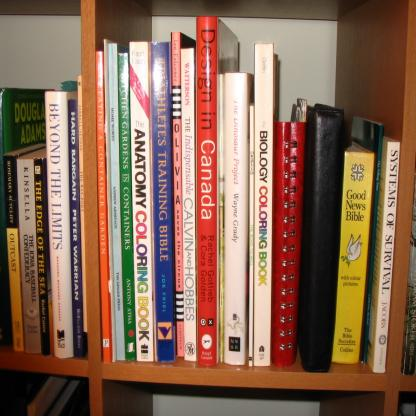book: (194, 12, 245, 368), (332, 140, 375, 362), (146, 33, 174, 360), (254, 38, 282, 362), (273, 112, 308, 366), (221, 67, 250, 364), (127, 36, 153, 362), (170, 30, 196, 354), (303, 103, 333, 376), (46, 86, 71, 359), (94, 50, 115, 364), (376, 133, 398, 377), (16, 155, 42, 360), (116, 50, 132, 362), (177, 47, 192, 374), (3, 148, 24, 336), (34, 153, 51, 357), (70, 94, 83, 358)
